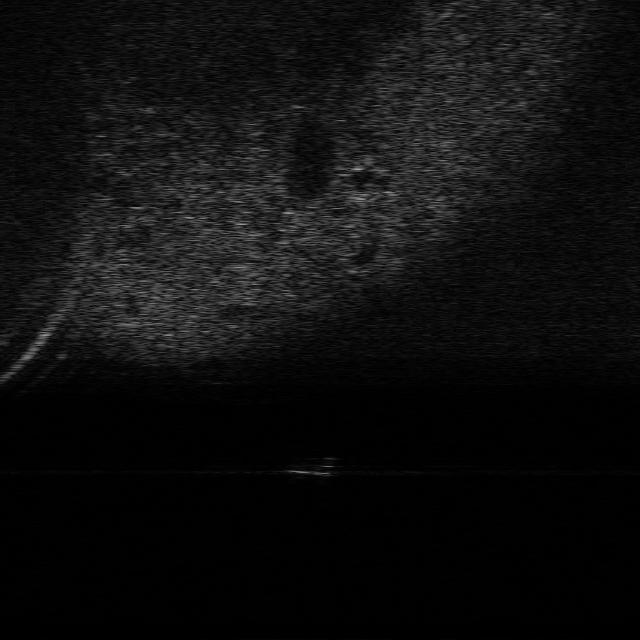cube: (295, 452, 337, 480)
